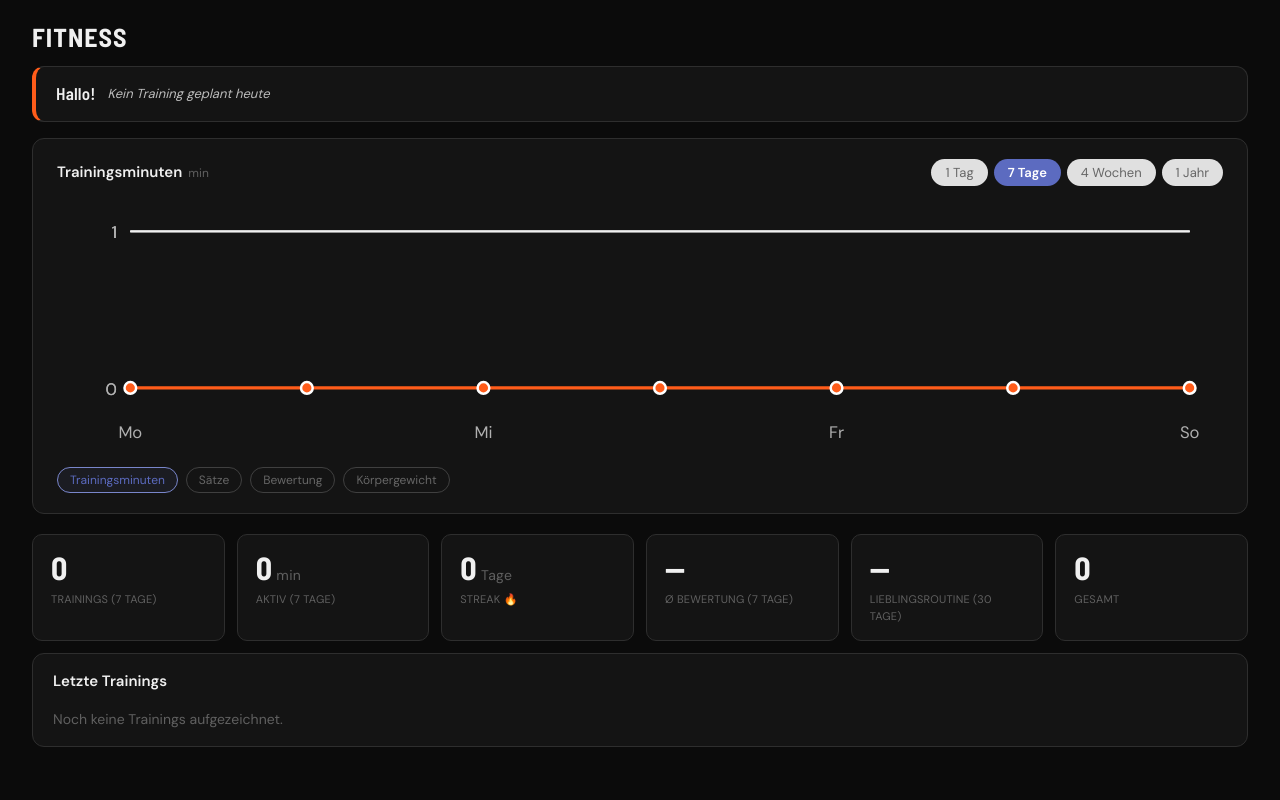
Test: Dashboard – Metrik-Tags (AC-01) › switches chart title to Sätze on click
Step 1. Click the button "Sätze" → (214, 480), box left=186, top=467, right=242, bottom=493
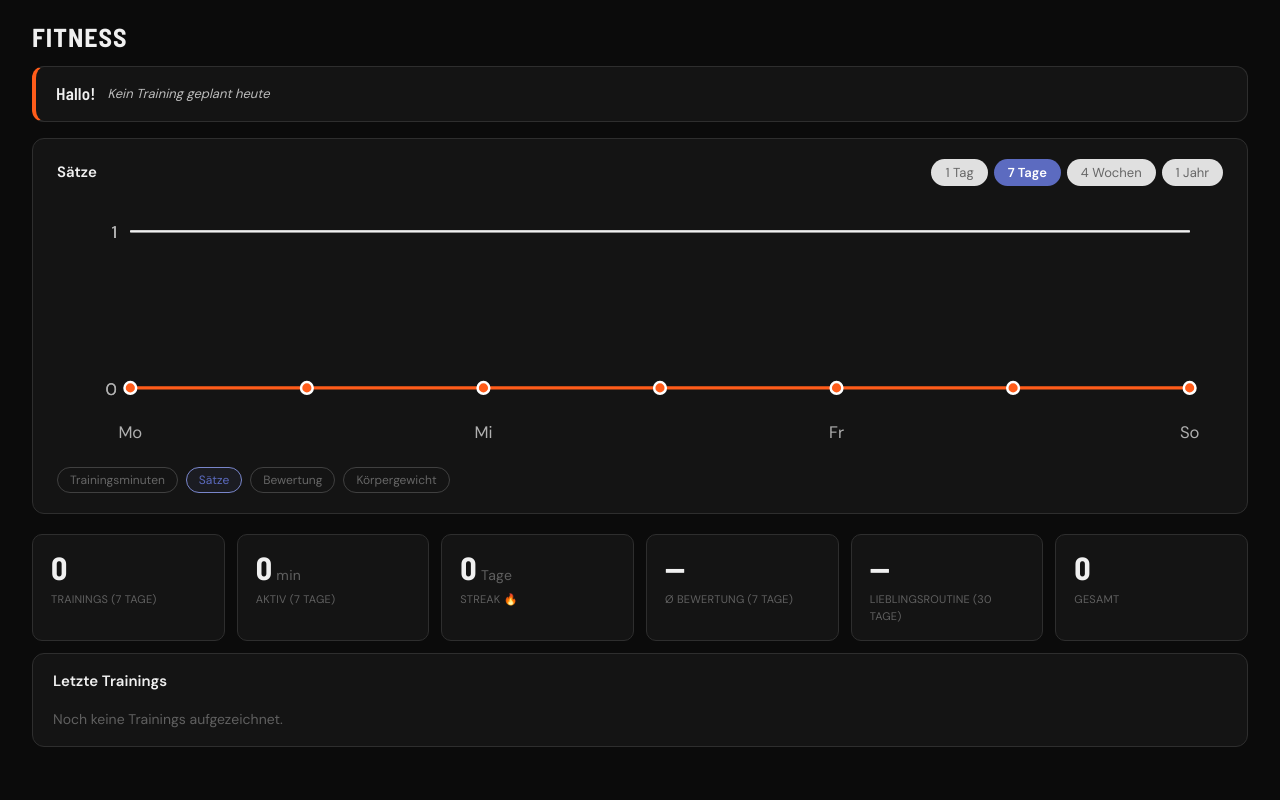
Expected: the text "Sätze" is shown, left=57, top=161, right=97, bottom=183
